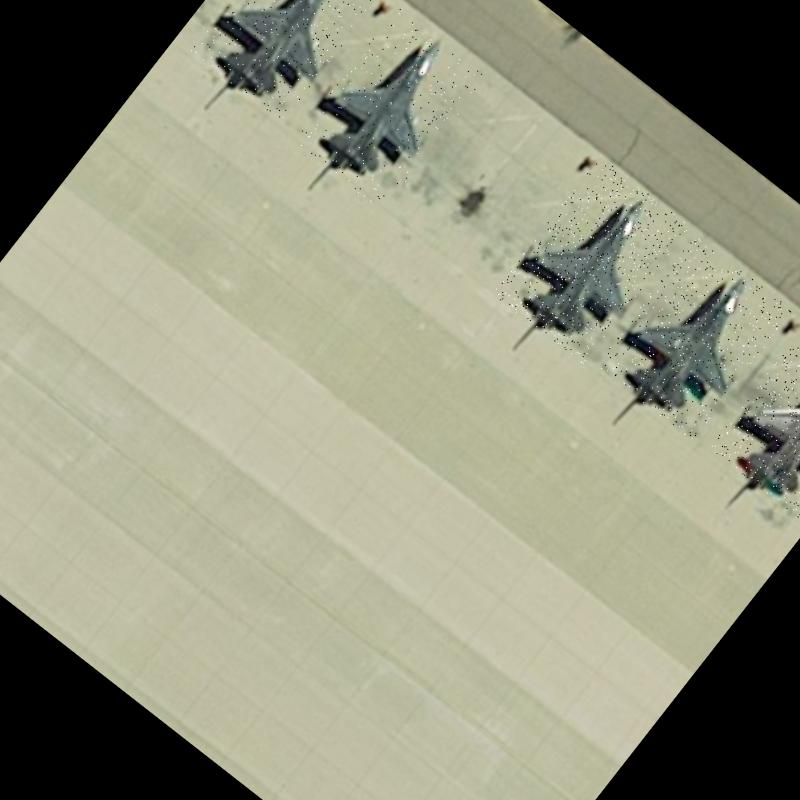A5: (594, 235, 794, 442), (492, 156, 690, 365), (292, 6, 488, 212), (189, 0, 386, 124), (708, 317, 800, 519)
